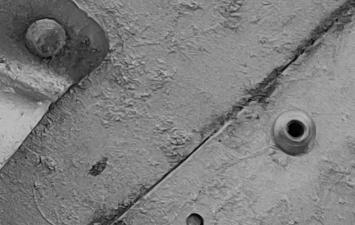crack: (1, 0, 355, 225)
